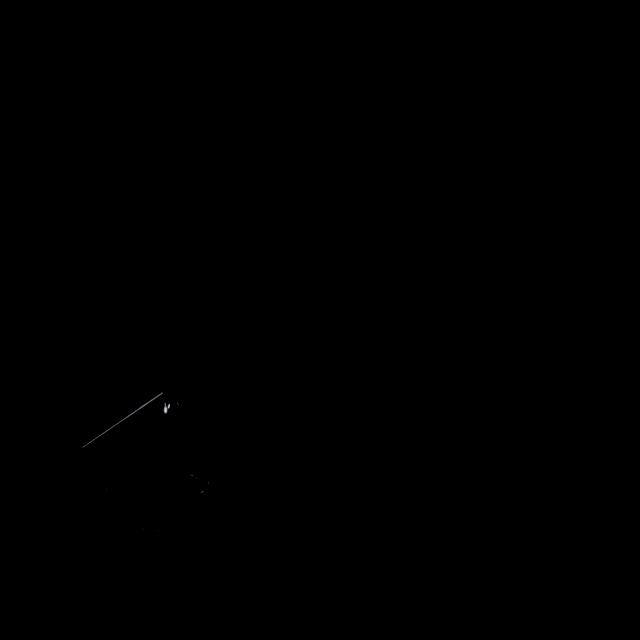satellite: (66, 383, 220, 542)
